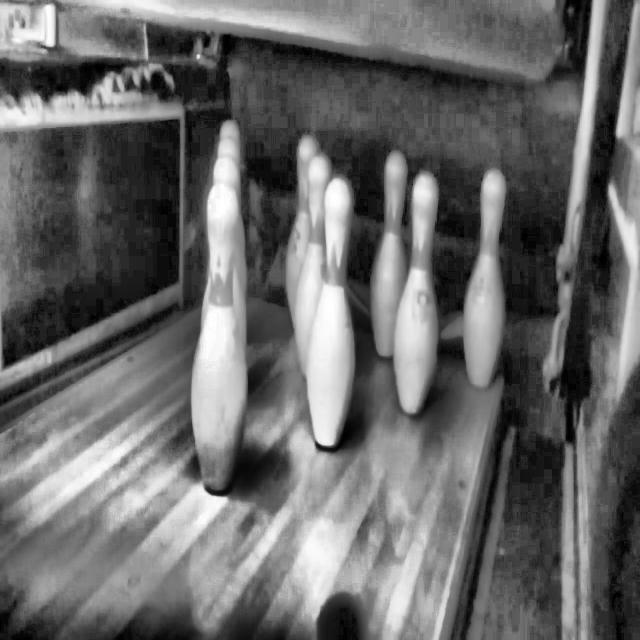bowling-pins: (192, 156, 248, 493), (307, 176, 356, 448), (394, 172, 438, 412), (464, 169, 506, 387), (294, 154, 330, 375), (371, 151, 406, 357), (286, 136, 317, 315)
